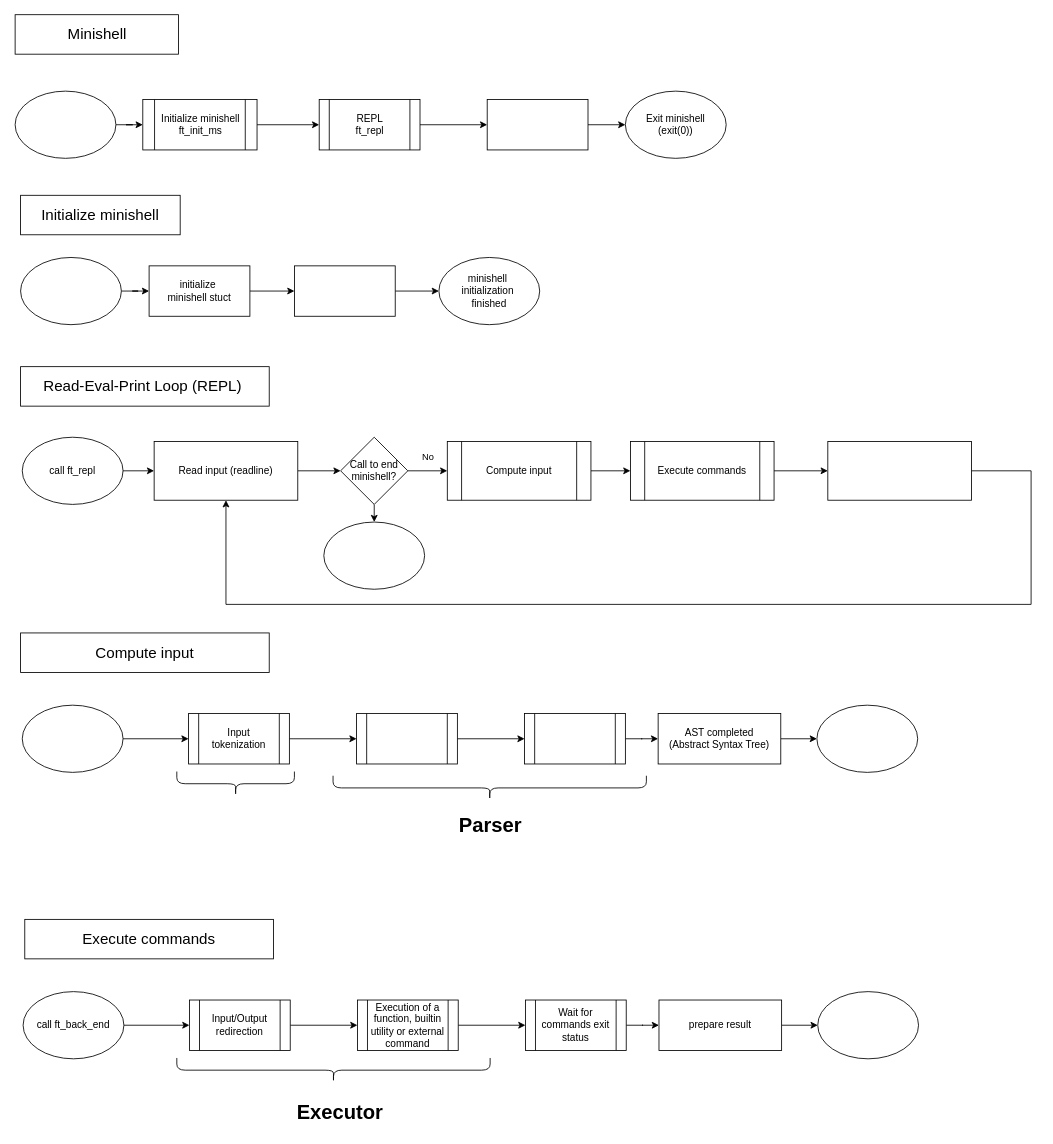
Image size: 1053x1144. Some labels were removed from this diagram. Here are the shapes that lost their labels. From the top down, the centre of each, then its label:
[65,124]: launch "./minishell"
[537,124]: Free memory ft_cleanup
[70,291]: call ft_init_ms
[344,290]: assign envp to minishell struct
[899,470]: Print output (printf)
[374,555]: End REPL
[72,738]: call ft_front_end
[406,738]: Input parsing
[574,738]: Word expansion
[867,738]: End ft_front_end
[235,783]: Scanner
[868,1025]: End ft_back_end
